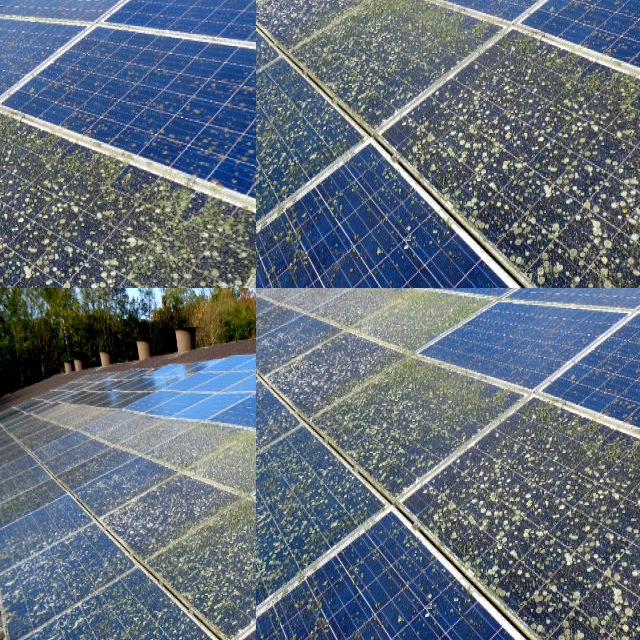crack: (0, 0, 213, 241), (0, 0, 187, 207), (0, 344, 204, 487), (0, 386, 218, 492), (101, 288, 256, 430), (126, 396, 256, 491), (0, 0, 111, 111), (0, 0, 123, 77), (0, 0, 128, 63), (0, 0, 119, 54), (0, 0, 97, 63), (0, 0, 102, 56), (234, 288, 256, 450)
dust: (265, 530, 444, 640), (484, 502, 640, 593), (331, 358, 414, 496), (483, 432, 640, 504), (256, 288, 367, 368), (256, 390, 305, 562)
hotspot: (374, 46, 494, 192)
